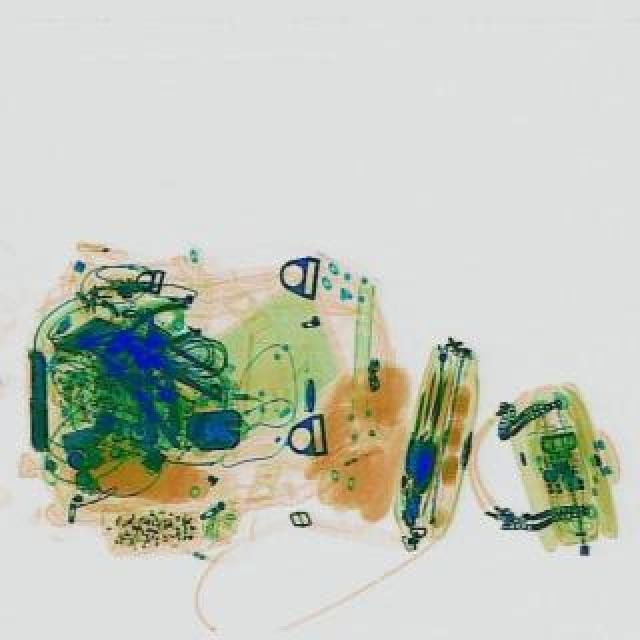wrench: (66, 308, 226, 452), (76, 300, 192, 364)
